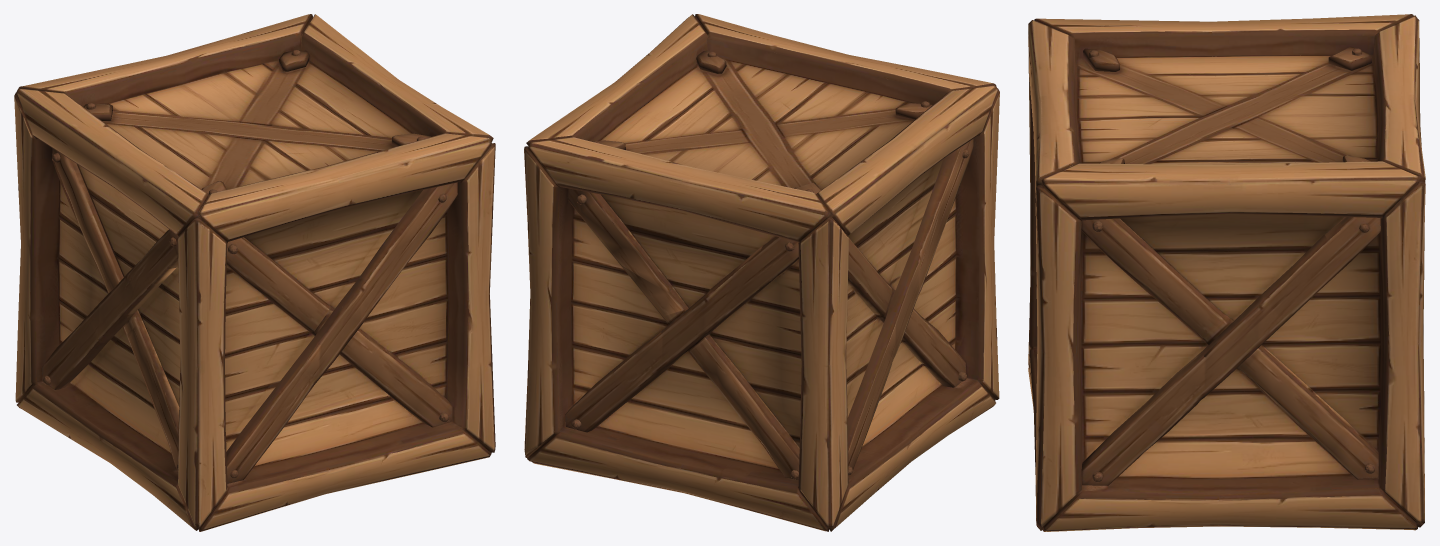
3 views of the same model, side by side, from view 1: azimuth 30°, elevation 25°; view 2: azimuth 150°, elevation 25°; view 3: azimuth 270°, elevation 25° (orthographic). The views are drawn at different scales.
Visible parts, largest first — view 1: tripo_node_36212d2c-ff1e-421d-9117-891f0fa2ae34; view 2: tripo_node_36212d2c-ff1e-421d-9117-891f0fa2ae34; view 3: tripo_node_36212d2c-ff1e-421d-9117-891f0fa2ae34.
Part boxes in pixels (x1=…): tripo_node_36212d2c-ff1e-421d-9117-891f0fa2ae34: x1=14, y1=14, x2=495, y2=531; tripo_node_36212d2c-ff1e-421d-9117-891f0fa2ae34: x1=524, y1=14, x2=999, y2=531; tripo_node_36212d2c-ff1e-421d-9117-891f0fa2ae34: x1=1028, y1=14, x2=1425, y2=531.
Bounding box in the file's own units: 1.02 × 1 × 1.02.
Materials: 1 (1 with a texture image).
